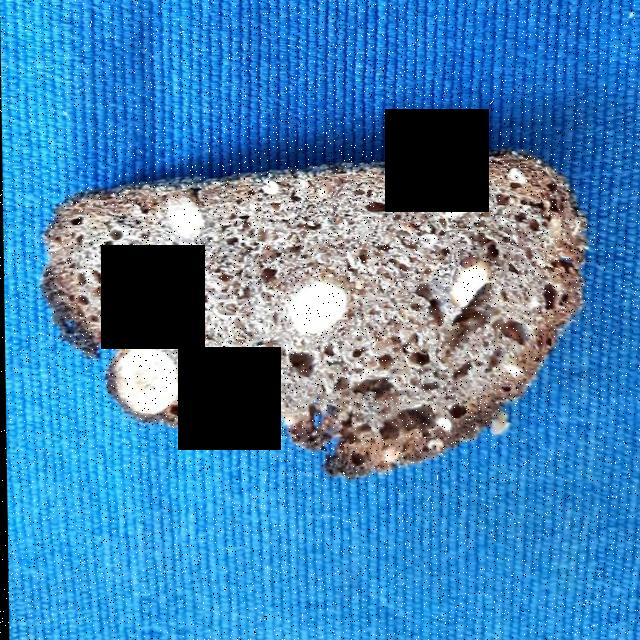bread-nut: (43, 151, 579, 476)
